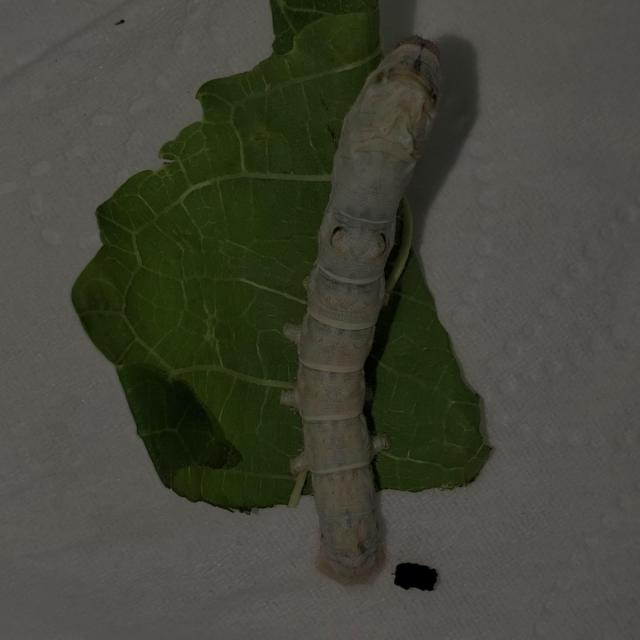Healthy: (272, 19, 506, 610)
